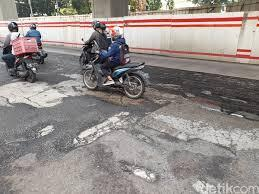Pothole: (73, 103, 133, 151), (119, 148, 172, 194), (190, 170, 232, 194), (11, 121, 66, 138)
